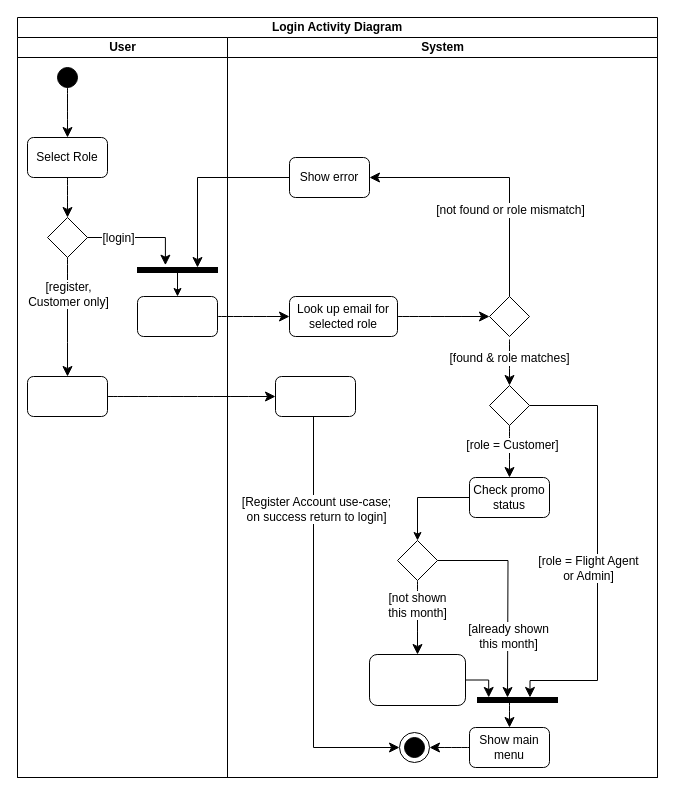
This 675x795 diagram has some shape labels left out. The centre of each missing label's shape, as x and y in pixels:
"Click Register" belongs at point 67,396.
"Enter email" belongs at point 177,316.
"Register Account" belongs at point 315,396.
"Show promotion popup & mark month shown" belongs at point 417,680.
